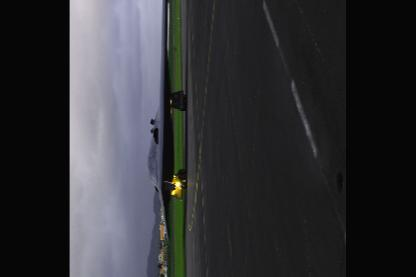B1: (146, 0, 188, 244)
